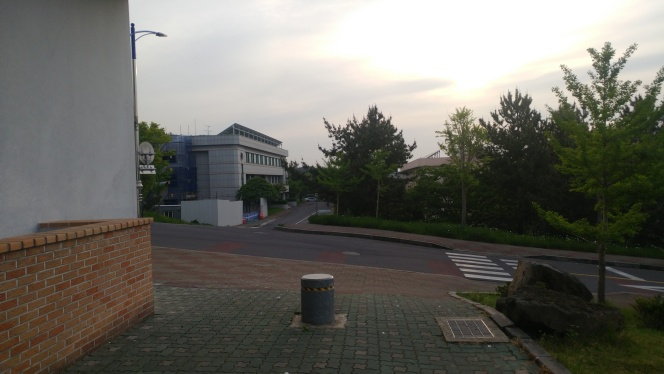Information Telecommunication Center: (177, 121, 298, 227), (206, 131, 291, 201)
